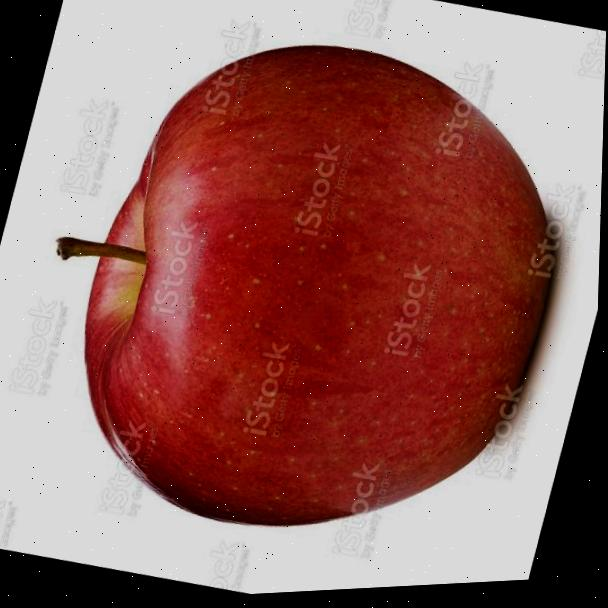HEALTHY: (0, 0, 608, 597)
